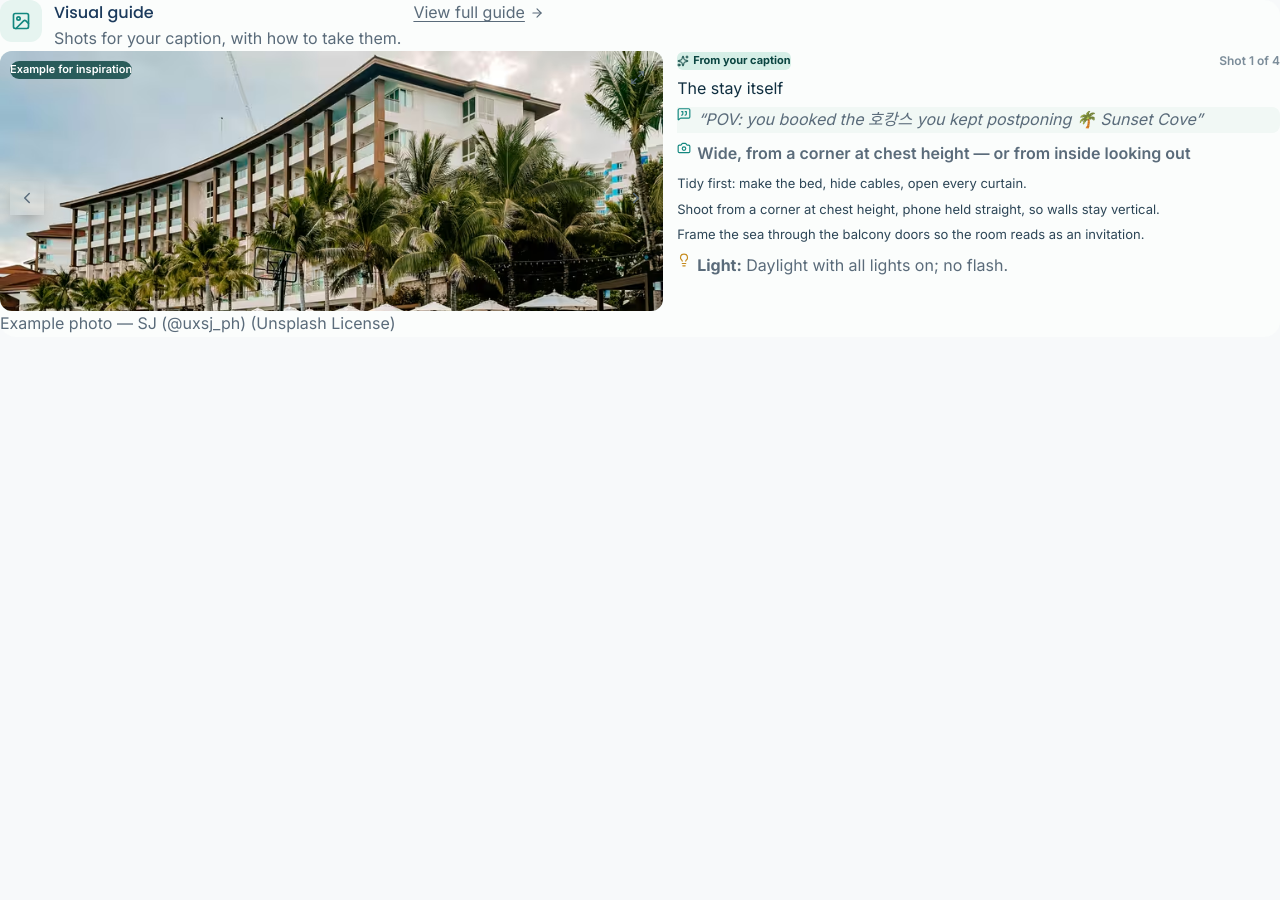
Test: VisualGuidePanel › expands a shot to full size and pages through the rest there
Click the button named "View The stay itself full size" at (637, 77), box [621,61,653,93]
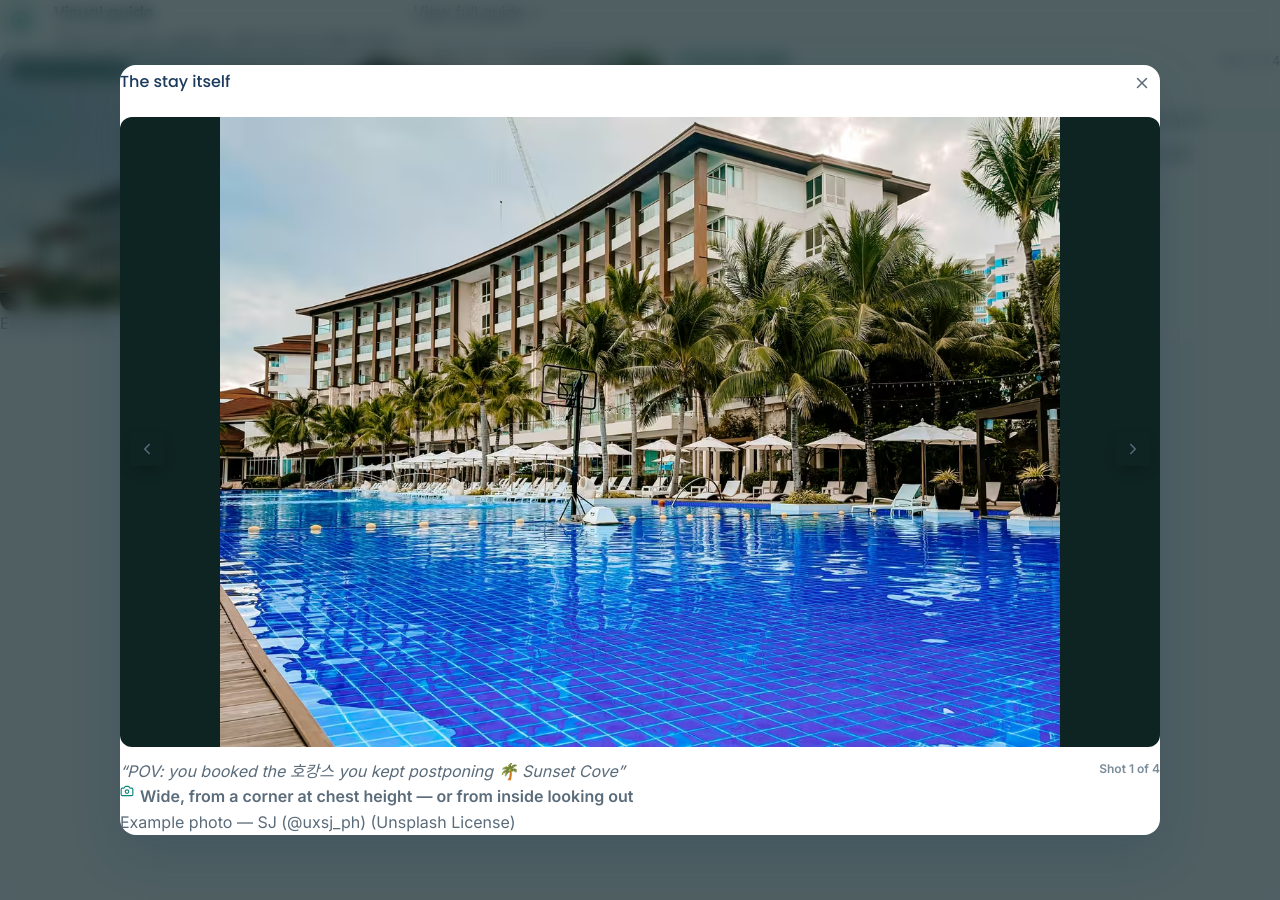
Expected: the picture is shown, [220,117,1060,747]
Expected: the text "Shot 1 of 4" is shown, [1099,759,1160,778]
Expected: the text "Example photo — SJ (@uxsj_ph) (Unsplash License)" is shown, [120,812,516,832]
Click the button named "Next shot" at (1133, 449), box [1116,432,1150,466]
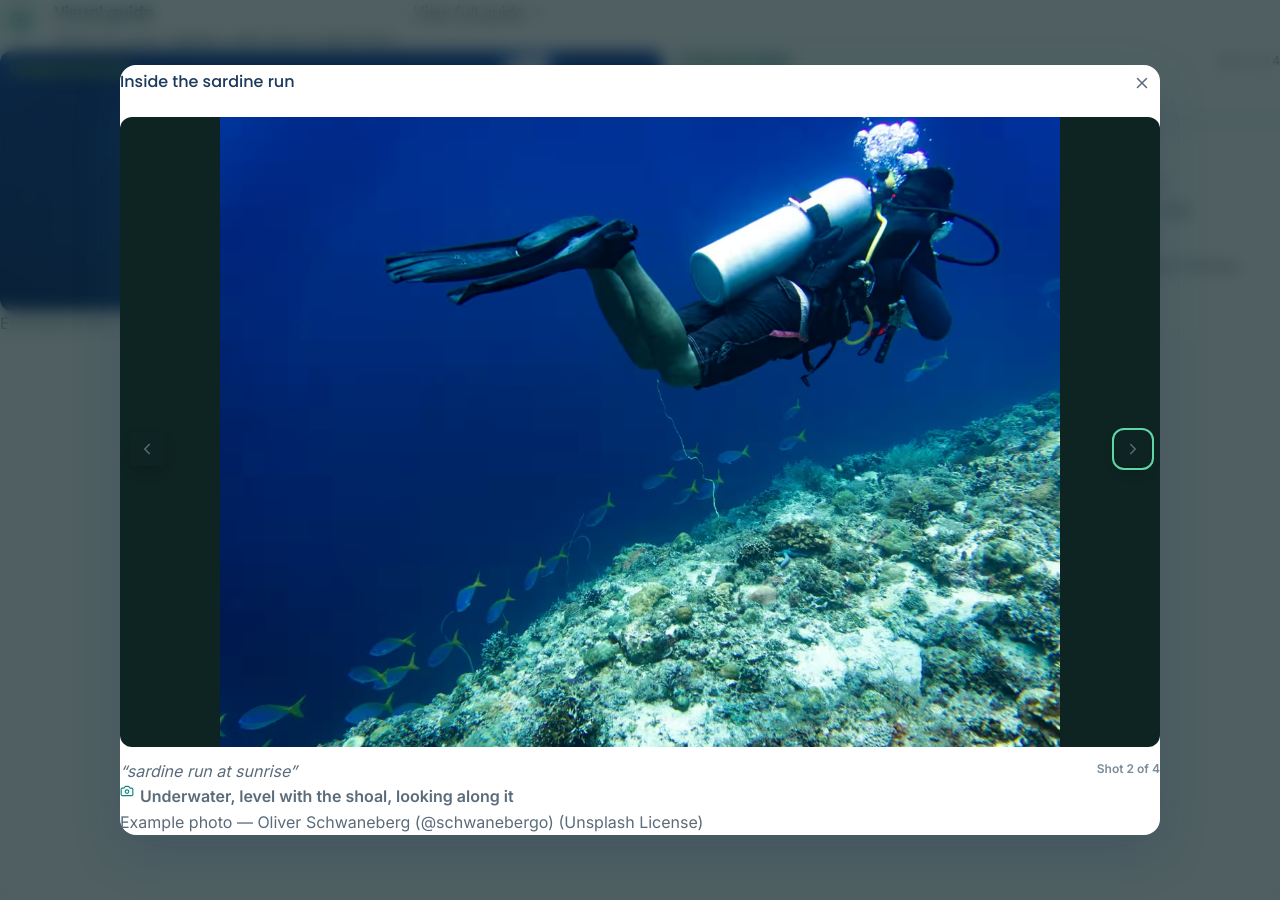
Expected: the dialog "Inside the sardine run" is shown
Click the button named "Close" at (1142, 83), box [1124,65,1160,101]
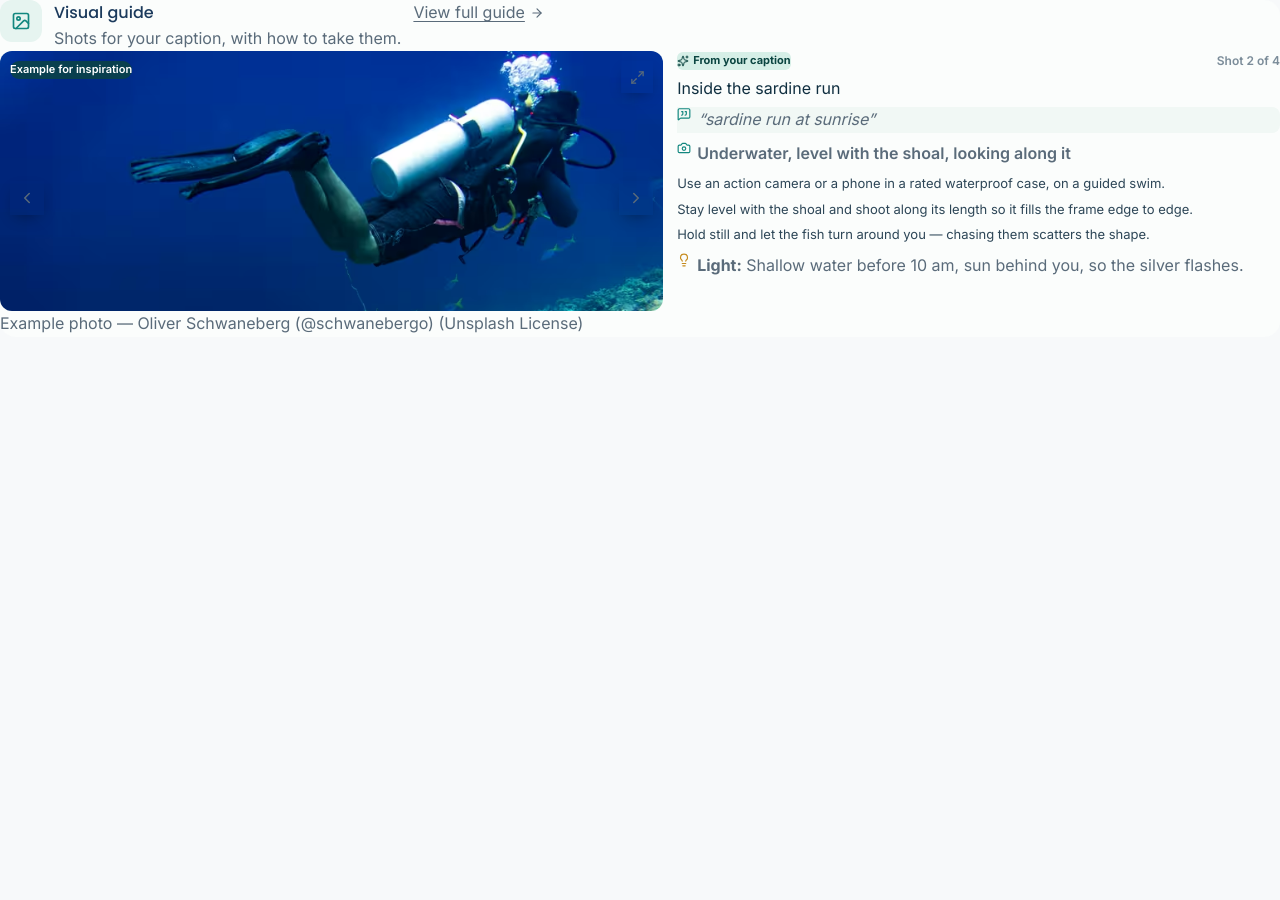
Expected: the text "Shot 2 of 4" is shown, [1217,51,1279,70]
Expected: the dialog is gone
